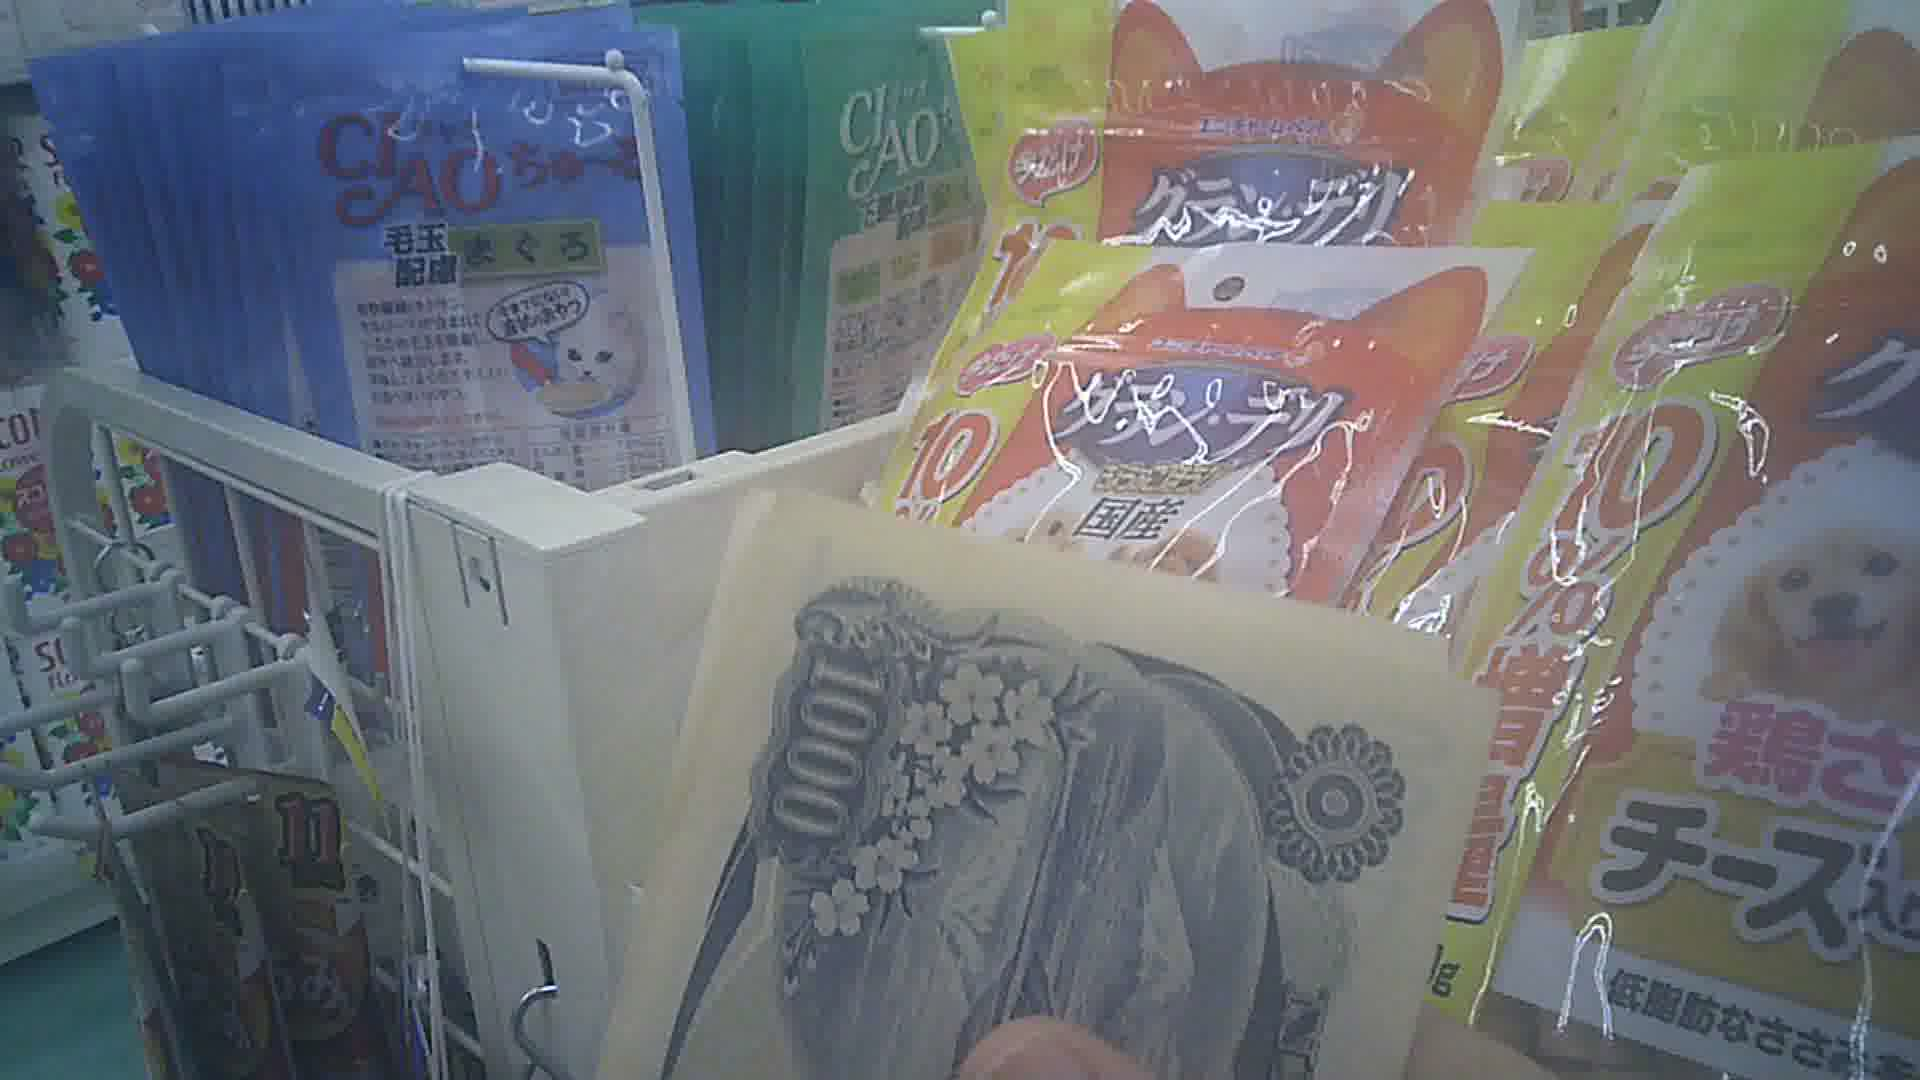1,000 Yen: (671, 526, 1393, 1079)
